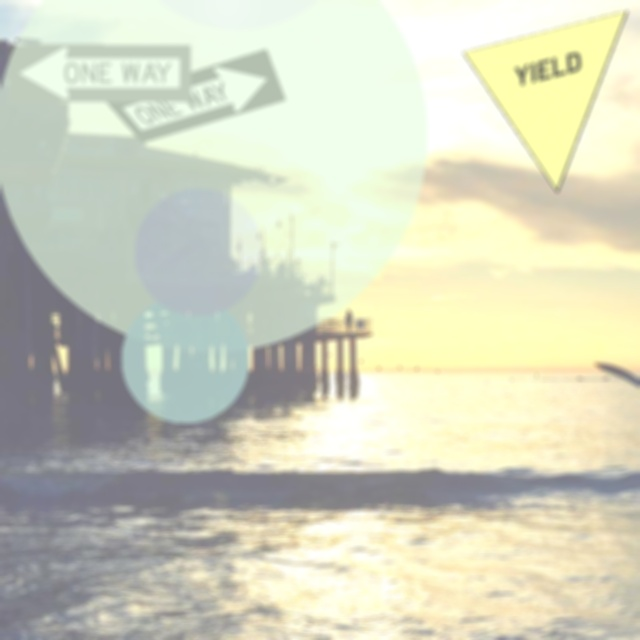ONE_WAY_ left: (8, 44, 191, 102)
ONE_WAY_ right: (103, 48, 286, 143)
YIELD: (462, 10, 628, 193)
